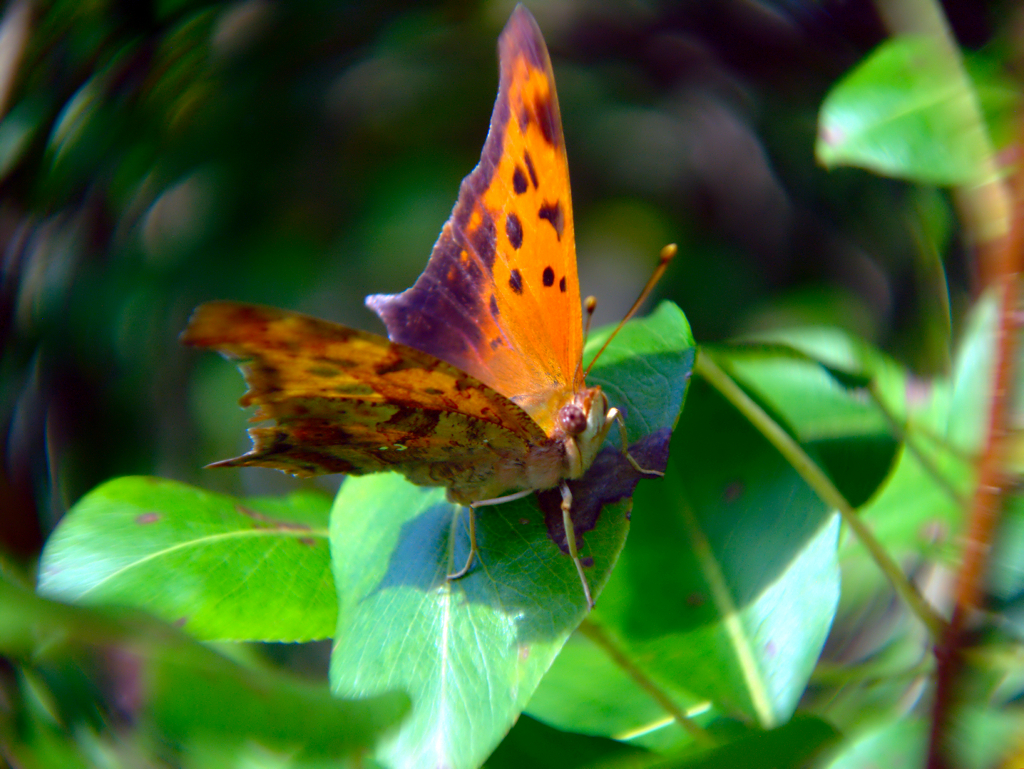Butterfly: (209, 1, 638, 575)
